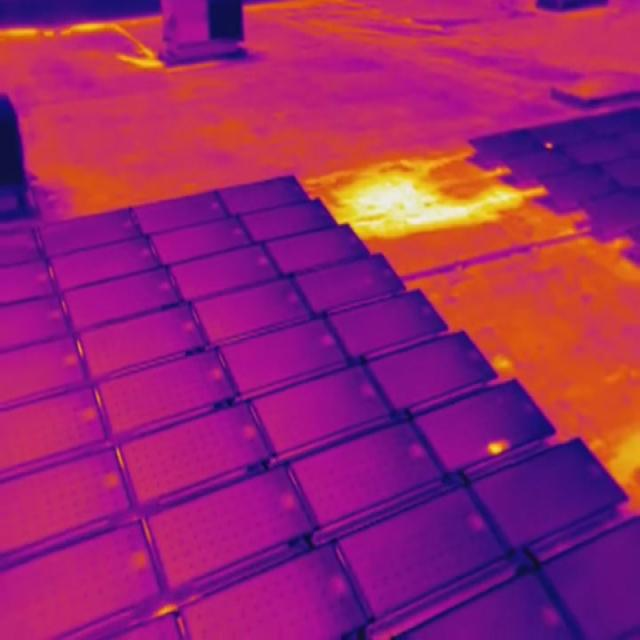Orange-Spots: (487, 438, 512, 458), (545, 142, 553, 149)
